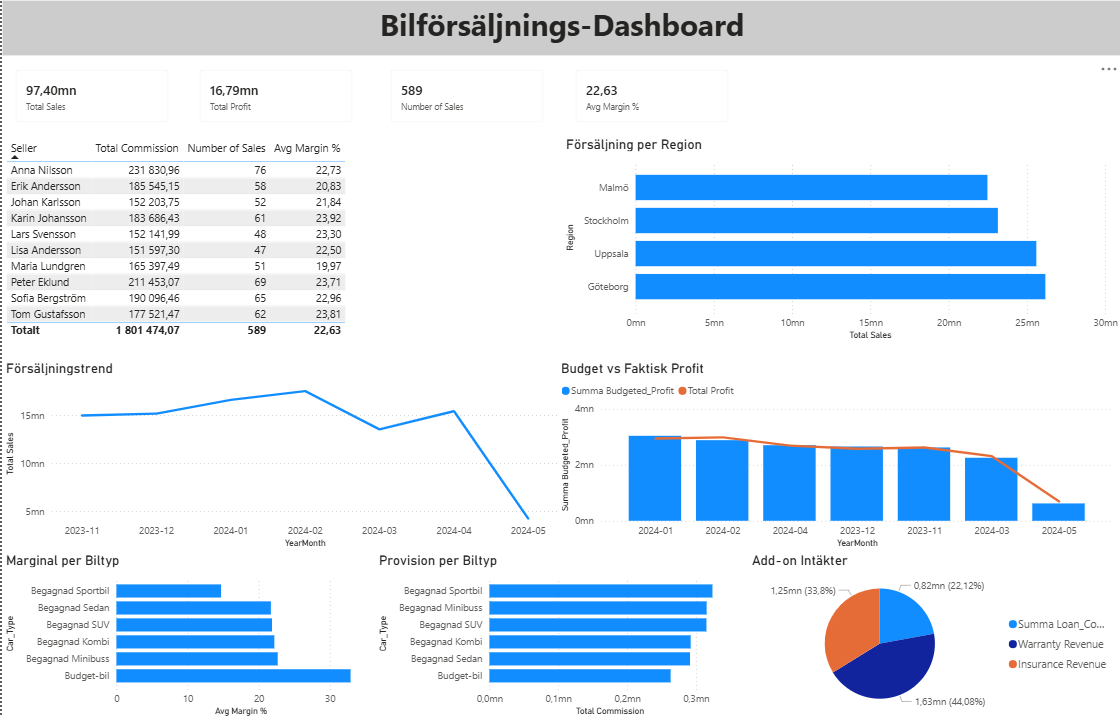

Layout of this report page (visuals, bound fields, positions):
{"tool":"powerbi","page":{"name":"Sida 1","canvas":[1400,900],"ordinal":0},"visuals":[{"type":"cardVisual","fields":{"Data":["Calendar.Number of Sales"]},"box":[469,70,225,100],"z":0},{"type":"cardVisual","fields":{"Data":["Calendar.Total Profit"]},"box":[230,70,225,100],"z":1000},{"type":"lineStackedColumnComboChart","title":"Budget vs Faktisk Profit","fields":{"Category":["Calendar.YearMonth"],"Y":["Sum(Data.Budgeted_Profit)"],"Y2":["Calendar.Total Profit"]},"box":[693.8,450,700,240],"z":2000},{"type":"pieChart","title":"Add-on Intäkter","fields":{"Y":["Sum(Data.Loan_Commission)","Calendar.Warranty Revenue","Calendar.Insurance Revenue"]},"box":[932.5,690,467.5,210],"z":3000},{"type":"clusteredBarChart","title":"Marginal per Biltyp","fields":{"Category":["Data.Car_Type"],"Y":["Calendar.Avg Margin %"]},"box":[0,690,466.2,210],"z":4000},{"type":"textbox","box":[0,0,1400,70],"z":5000},{"type":"tableEx","fields":{"Values":["Sellers.Seller","Calendar.Total Commission","Calendar.Number of Sales","Calendar.Avg Margin %"]},"box":[0,170,700,260],"z":6000},{"type":"clusteredBarChart","title":"Försäljning per Region","fields":{"Category":["Regions.Region"],"Y":["Calendar.Total Sales"]},"box":[700,170,700,260],"z":7000},{"type":"cardVisual","fields":{"Data":["Calendar.Total Sales"]},"box":[0,70,225,100],"z":8000},{"type":"cardVisual","fields":{"Data":["Calendar.Avg Margin %"]},"box":[700,70,225,100],"z":9000},{"type":"lineChart","title":"Försäljningstrend","fields":{"Category":["Calendar.YearMonth"],"Y":["Calendar.Total Sales"]},"box":[0,450,700,240],"z":10000},{"type":"clusteredBarChart","title":"Provision per Biltyp","fields":{"Category":["Data.Car_Type"],"Y":["Calendar.Total Commission"]},"box":[466.2,690,466.2,210],"z":11000}]}

Visuals, with their boxes in screenshot pixels (x1, y1, x2, y2), scaled from the page's 1400x900 canvas onto the 1120x717 screenshot:
cardVisual - Calendar.Number of Sales: bbox=(375, 56, 555, 135)
cardVisual - Calendar.Total Profit: bbox=(184, 56, 364, 135)
"Budget vs Faktisk Profit" lineStackedColumnComboChart: bbox=(555, 358, 1115, 550)
"Add-on Intäkter" pieChart: bbox=(746, 550, 1119, 716)
"Marginal per Biltyp" clusteredBarChart: bbox=(0, 550, 373, 716)
textbox: bbox=(0, 0, 1119, 56)
tableEx - Sellers.Seller x Calendar.Total Commission: bbox=(0, 135, 560, 343)
"Försäljning per Region" clusteredBarChart: bbox=(560, 135, 1119, 343)
cardVisual - Calendar.Total Sales: bbox=(0, 56, 180, 135)
cardVisual - Calendar.Avg Margin %: bbox=(560, 56, 740, 135)
"Försäljningstrend" lineChart: bbox=(0, 358, 560, 550)
"Provision per Biltyp" clusteredBarChart: bbox=(373, 550, 746, 716)
